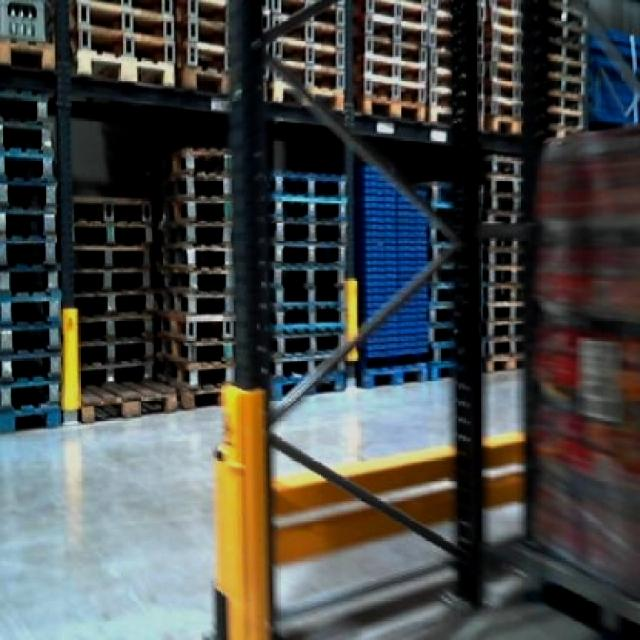pallets: (509, 125, 637, 626)
